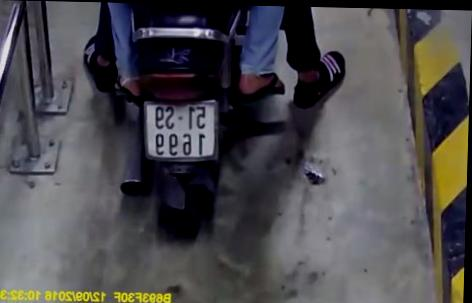License_Plate: (129, 94, 227, 169)
